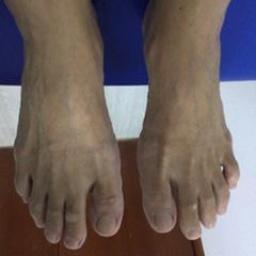Dorsal View -Both Feet-: (6, 12, 248, 250)
